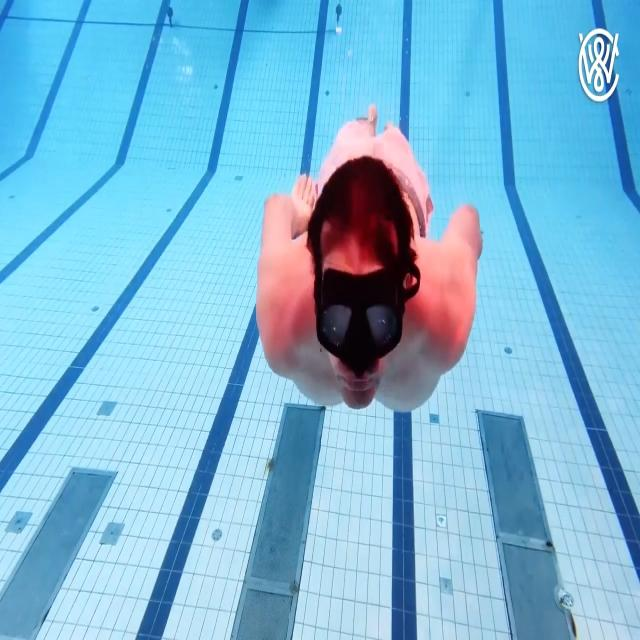Swimming: (256, 105, 483, 414)
